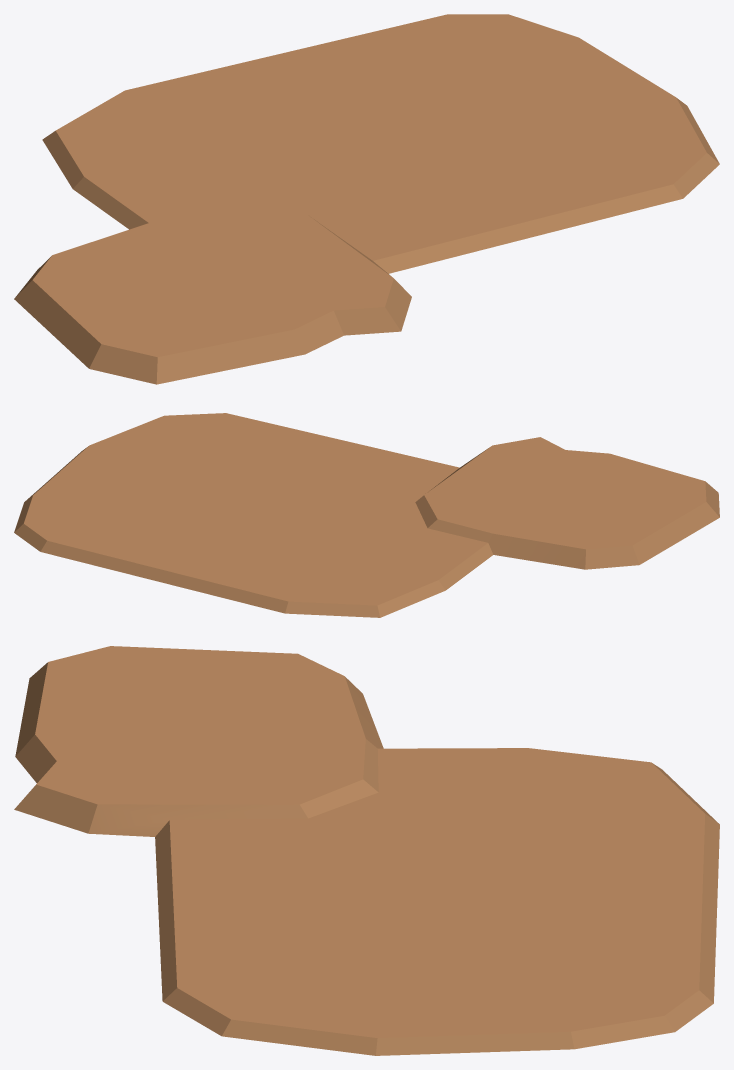
File: DE_Stone_05_SandDark.fbx
3 renders of one model, top to bottom at view 1: azimuth 30°, elevation 25°; view 2: azimuth 150°, elevation 25°; view 3: azimuth 270°, elevation 25°, orthographic. The views are drawn at different scales.
Parts seen in each view (by area): view 1: DE_Stone_05_SandDark; view 2: DE_Stone_05_SandDark; view 3: DE_Stone_05_SandDark.
Boxes of the visible parts, x1=… form: DE_Stone_05_SandDark: x1=14, y1=14, x2=719, y2=384; DE_Stone_05_SandDark: x1=14, y1=413, x2=719, y2=617; DE_Stone_05_SandDark: x1=14, y1=646, x2=719, y2=1055.
Bounding box in the file's own units: 197 × 5 × 148.
